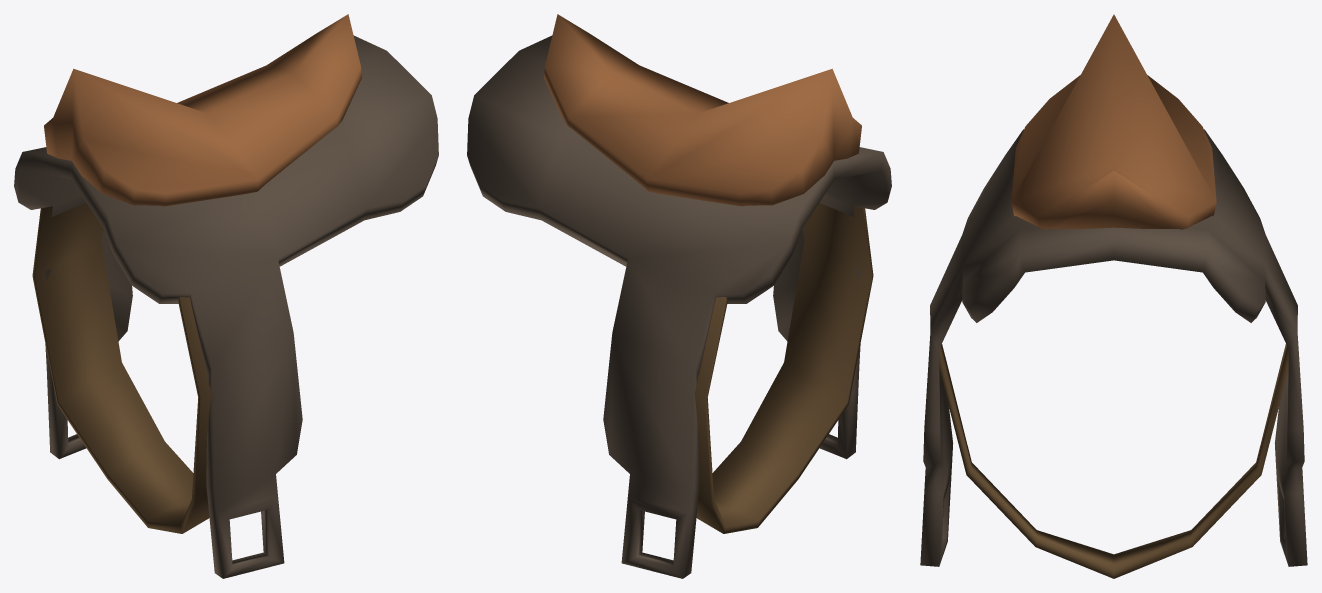
File: Saddle.fbx
The picture shows the model from 3 angles, left to right: view 1: azimuth 30°, elevation 25°; view 2: azimuth 150°, elevation 25°; view 3: azimuth 270°, elevation 25°; orthographic projection. The views are drawn at different scales.
Parts seen in each view (by area): view 1: Saddle, Saddle Top, Saddle Straps; view 2: Saddle, Saddle Top, Saddle Straps; view 3: Saddle, Saddle Top, Saddle Straps.
Part boxes in pixels (x1,y1,x2,y2): Saddle: (14,35,438,578); Saddle Top: (44,14,362,206); Saddle Straps: (32,203,211,533); Saddle: (467,35,891,578); Saddle Top: (543,14,861,206); Saddle Straps: (694,203,873,533); Saddle: (920,129,1307,566); Saddle Top: (1011,14,1216,229); Saddle Straps: (939,344,1288,578).
Size of the model in its own units: 66.96 by 93.73 by 64.5.
1 material, 1 textured.
